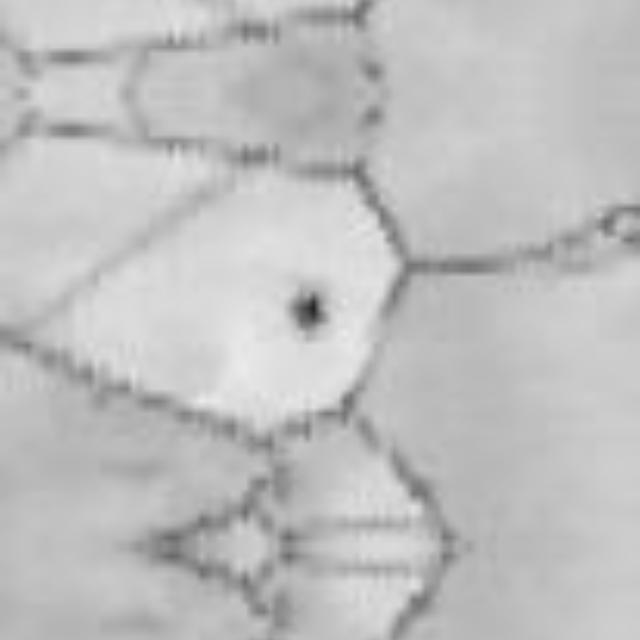good_void: (285, 285, 332, 338)
